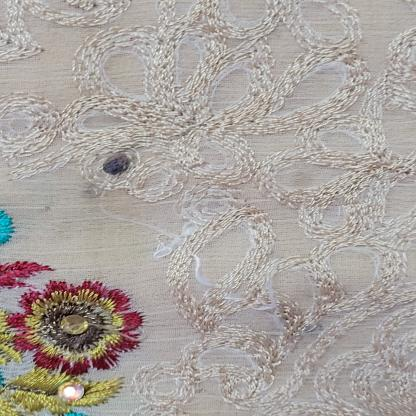spot: (93, 148, 153, 180)
